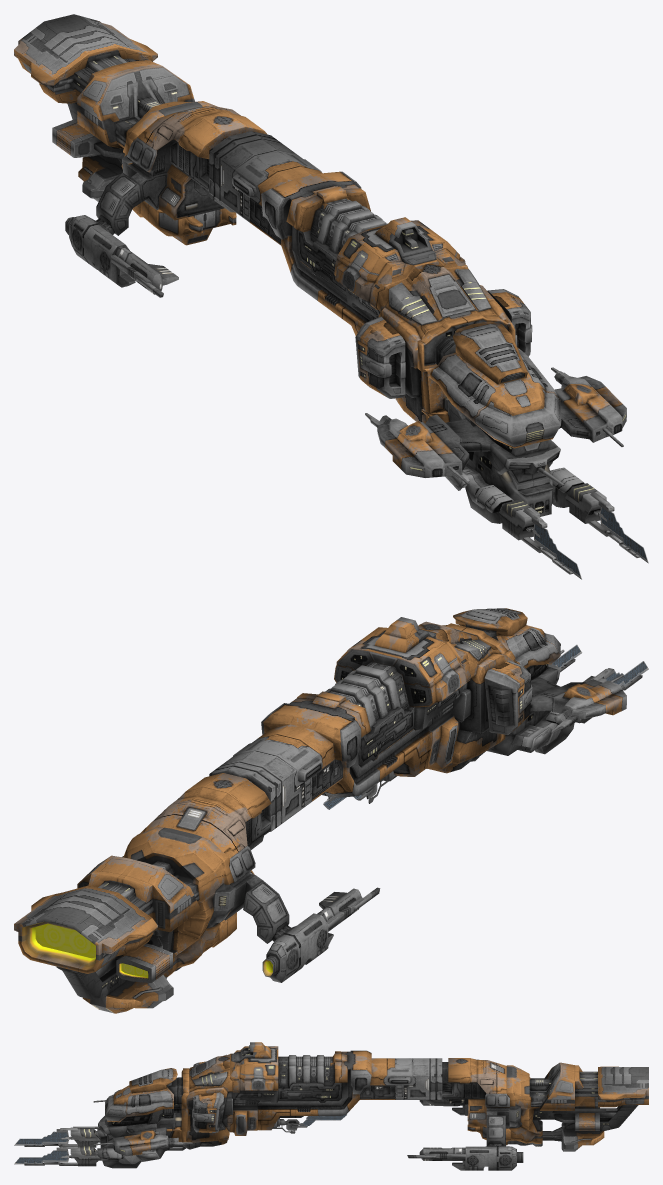
Rendered from 29990_Loki2122_lite.glb.
3 renders of one model, top to bottom at view 1: azimuth 30°, elevation 25°; view 2: azimuth 150°, elevation 25°; view 3: azimuth 270°, elevation 25°, orthographic. The views are drawn at different scales.
Visible parts, largest first — view 1: msc1_t3_s1v2, msc1_t3_s3v2, msc1_t3_s4v2, msc1_t3_s2v1; view 2: msc1_t3_s3v2, msc1_t3_s4v2, msc1_t3_s1v2, msc1_t3_s2v1; view 3: msc1_t3_s3v2, msc1_t3_s1v2, msc1_t3_s4v2, msc1_t3_s2v1.
Boxes of the visible parts, x1,y1,x2,y2 form: msc1_t3_s1v2: (355, 261, 648, 579); msc1_t3_s3v2: (65, 105, 371, 335); msc1_t3_s4v2: (14, 14, 216, 217); msc1_t3_s2v1: (294, 186, 468, 320); msc1_t3_s3v2: (122, 697, 432, 982); msc1_t3_s4v2: (14, 827, 235, 1013); msc1_t3_s1v2: (402, 608, 648, 773); msc1_t3_s2v1: (297, 617, 470, 769); msc1_t3_s3v2: (258, 1050, 523, 1170); msc1_t3_s1v2: (14, 1054, 232, 1168); msc1_t3_s4v2: (506, 1062, 648, 1151); msc1_t3_s2v1: (229, 1042, 341, 1135).
Size of the model in its own units: 1.09 by 0.9586 by 4.75.
Materials: 8 (8 with a texture image).
